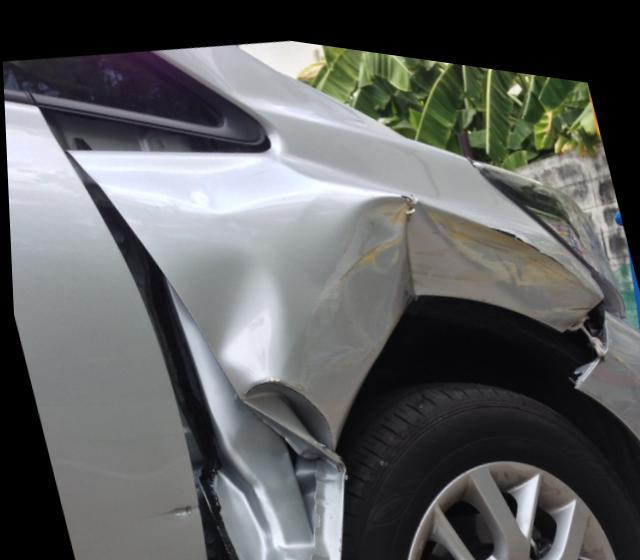dent: (335, 181, 602, 333), (81, 150, 310, 206), (188, 246, 277, 374)
scratch: (292, 258, 369, 384)
